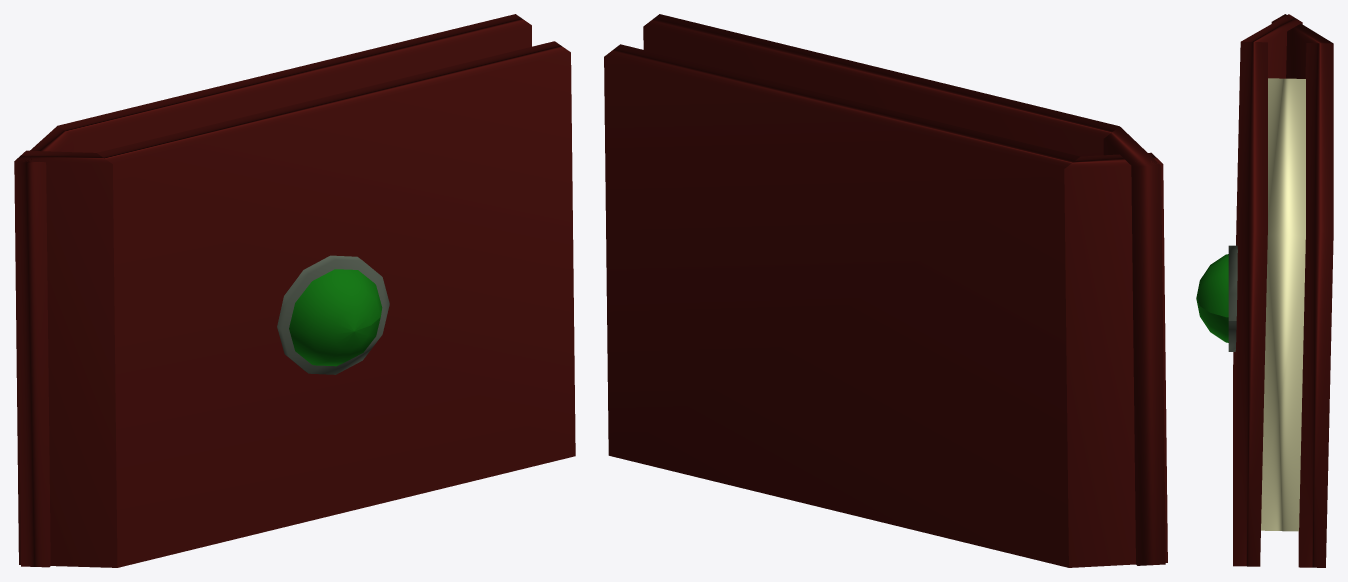
File: grimoire.fbx
3 views of the same model, side by side, from view 1: azimuth 30°, elevation 25°; view 2: azimuth 150°, elevation 25°; view 3: azimuth 270°, elevation 25° (orthographic). The views are drawn at different scales.
Parts seen in each view (by area): view 1: grimoire_m; view 2: grimoire_m; view 3: grimoire_m.
Part boxes in pixels (box(x1,y1,x2,y2)): grimoire_m: box(14, 14, 575, 567); grimoire_m: box(604, 14, 1167, 567); grimoire_m: box(1196, 14, 1333, 567).
Size of the model in its own units: 12.54 by 9.14 by 3.36.
